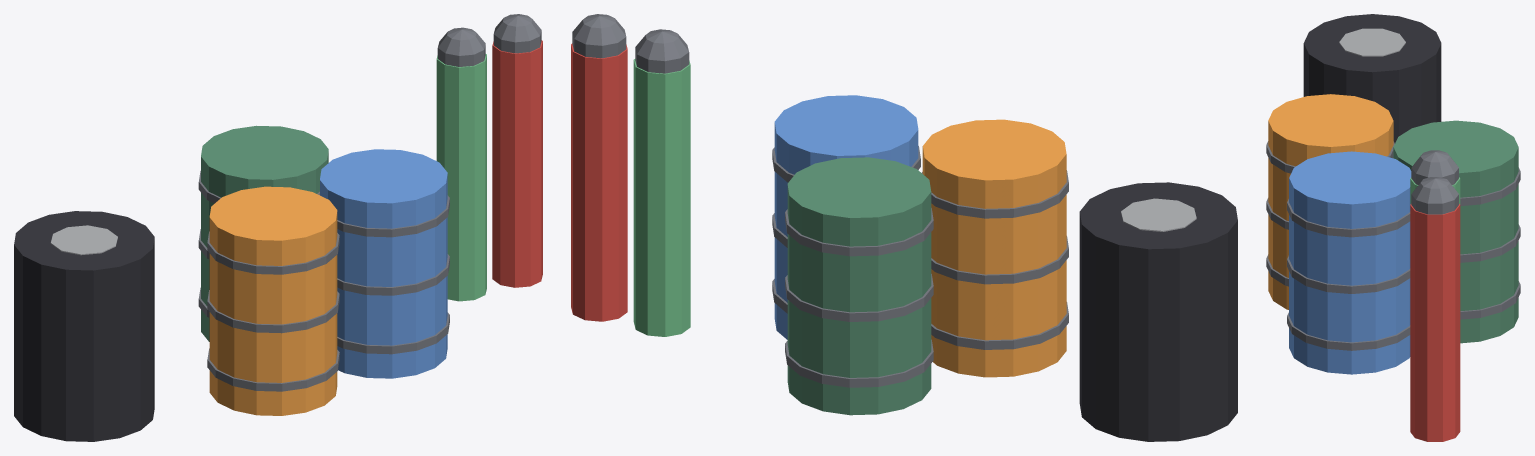
Rendered from workshop_drums.glb.
The picture shows the model from 3 angles, left to right: view 1: azimuth 30°, elevation 25°; view 2: azimuth 150°, elevation 25°; view 3: azimuth 270°, elevation 25°; orthographic projection. The views are drawn at different scales.
Visible parts, largest first — view 1: workshop_drums; view 2: workshop_drums; view 3: workshop_drums.
Boxes of the visible parts, x1,y1,x2,y2 form: workshop_drums: (14,14,542,441); workshop_drums: (571,14,1237,441); workshop_drums: (1266,14,1520,441).
Bounding box in the file's own units: 2.94 × 1.34 × 1.22.
